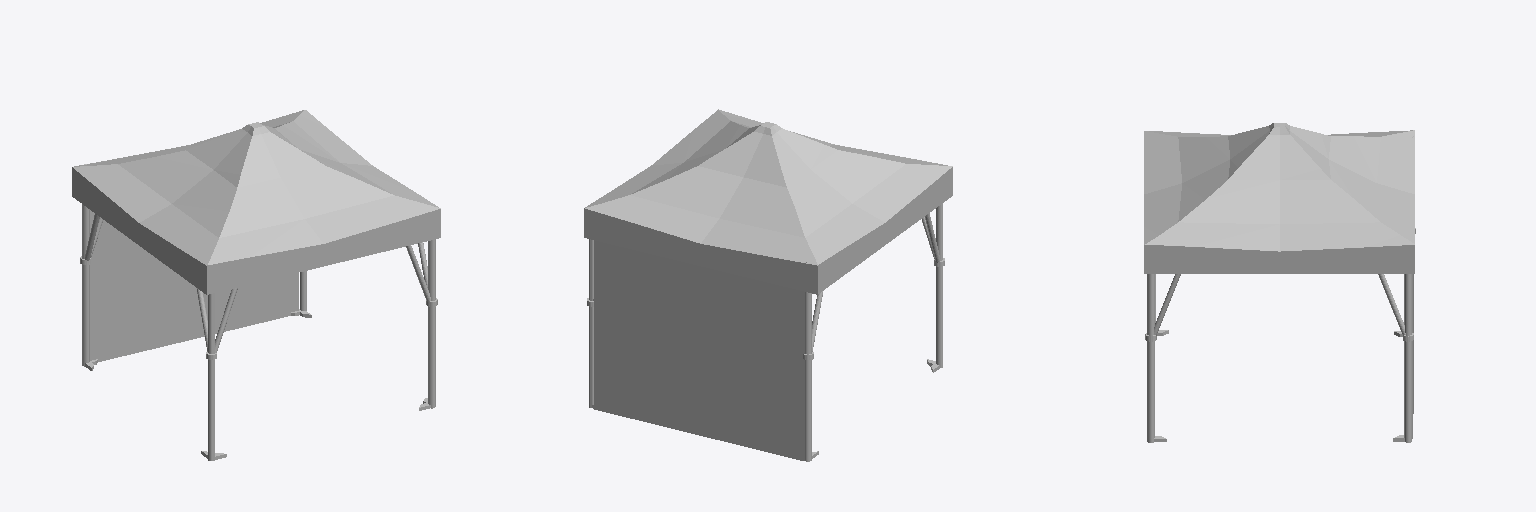
File: CR_CanTent.obj
3 renders of one model, left to right at view 1: azimuth 30°, elevation 25°; view 2: azimuth 150°, elevation 25°; view 3: azimuth 270°, elevation 25°, orthographic.
Visible parts, largest first — view 1: Union1, Part19, Part28, Part23, Part31; view 2: Union1, Part19, Part23, Part31, Part17; view 3: Union1, Part28, Part17.
Boxes of the visible parts, box(x1,y1,x2,y2) form: Union1: box(72, 110, 440, 294); Part19: box(90, 210, 298, 361); Part28: box(428, 239, 435, 408); Part23: box(82, 164, 89, 366); Part31: box(208, 293, 214, 460); Union1: box(584, 109, 952, 294); Part19: box(594, 240, 804, 460); Part23: box(805, 262, 811, 461); Part31: box(936, 203, 942, 367); Part17: box(589, 239, 593, 407); Union1: box(1144, 123, 1414, 273); Part28: box(1147, 274, 1154, 442); Part17: box(1404, 274, 1411, 442).
Bounding box in the file's own units: 12.57 × 13.44 × 12.61.